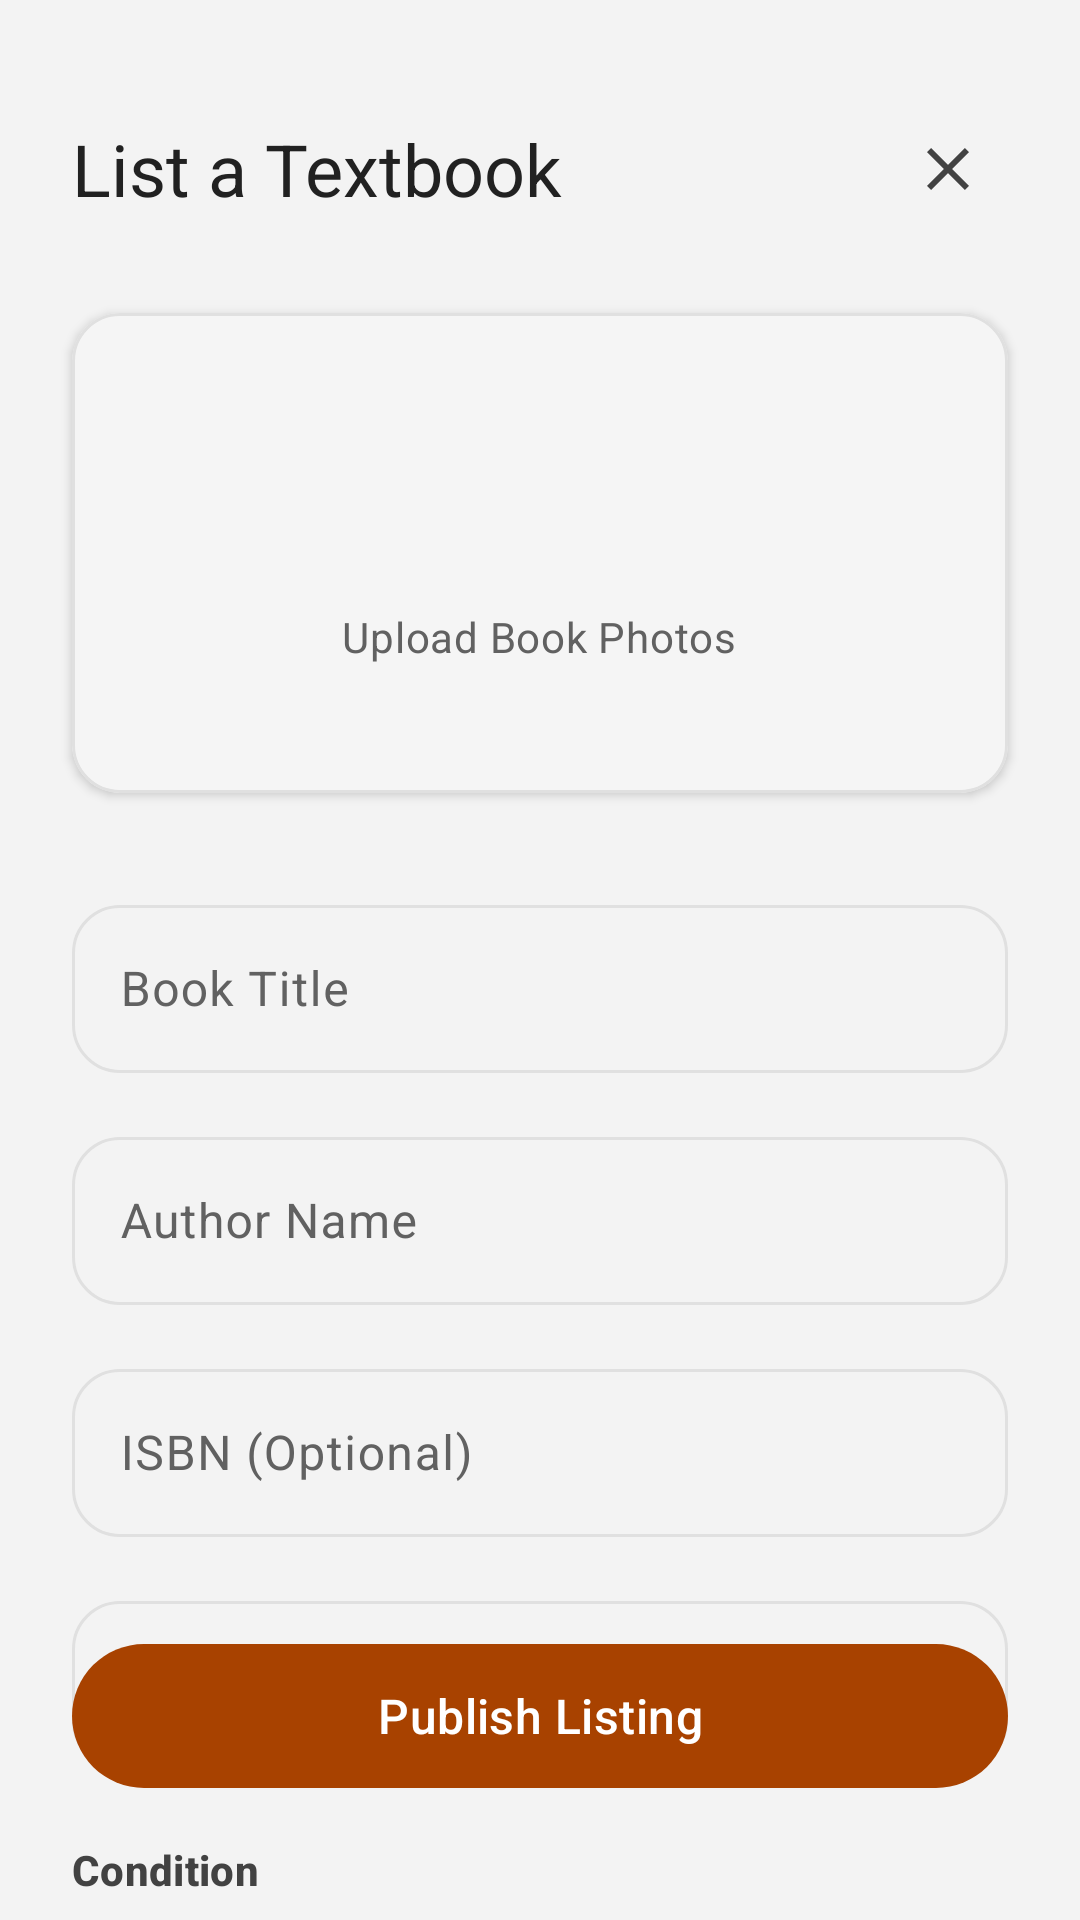

Where to tap for icons on this 1080*1920 app screen, as (x,y):
Close: (948,169)
